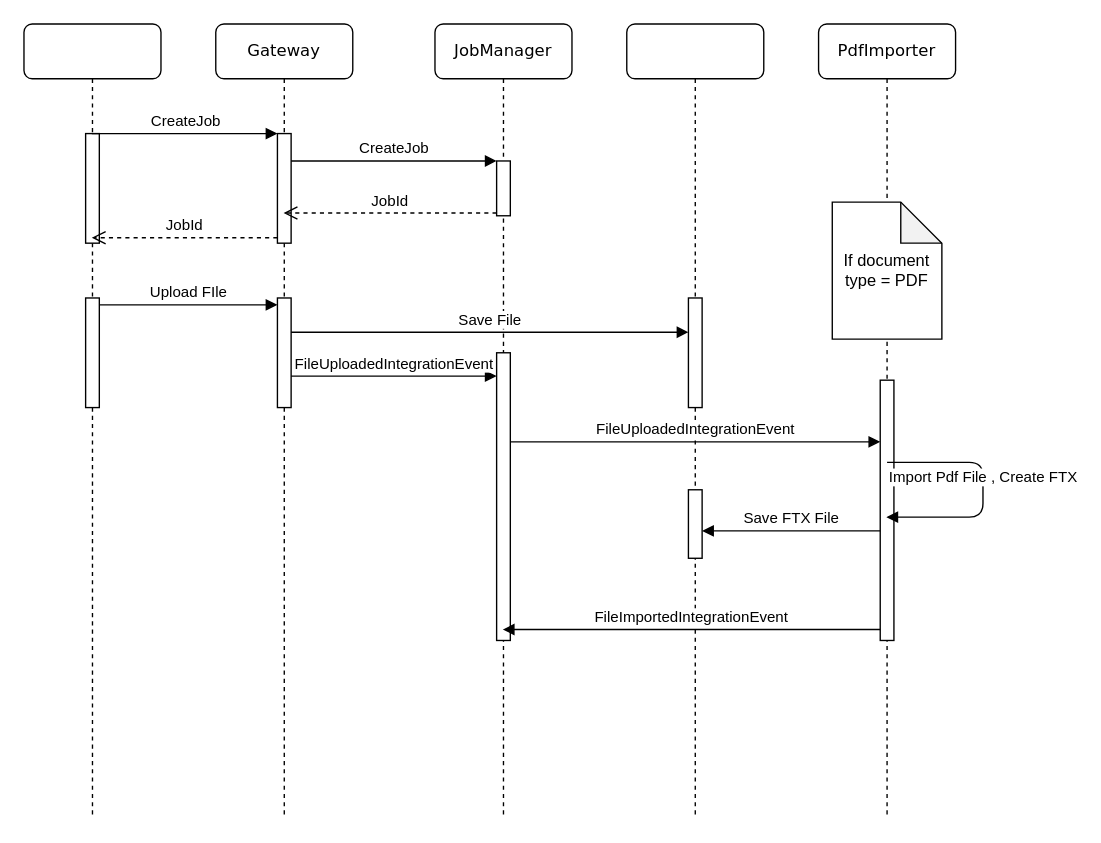
This 1101x843 diagram has some shape labels left out. Here are the shapes that lost their labels. From the top down, the centre of each, then its label:
At pixel 92 421: "Client".
At pixel 694 421: "JobStorage".
